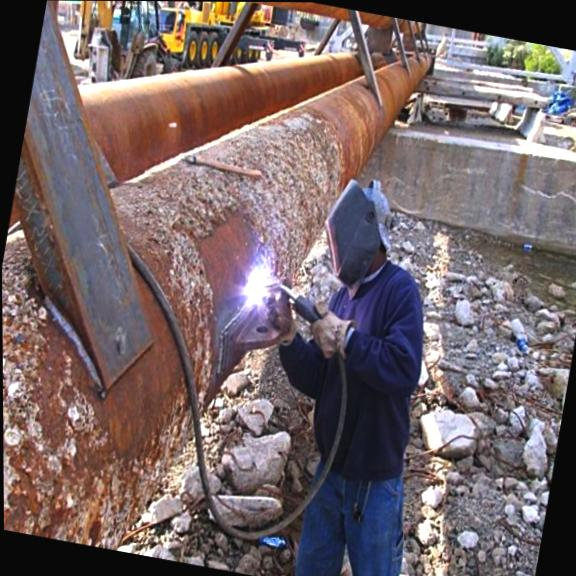no_safety_vest: (296, 249, 444, 479)
